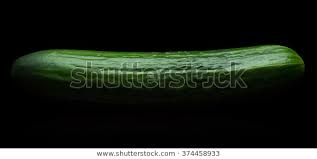cucumber: (12, 46, 306, 90)
